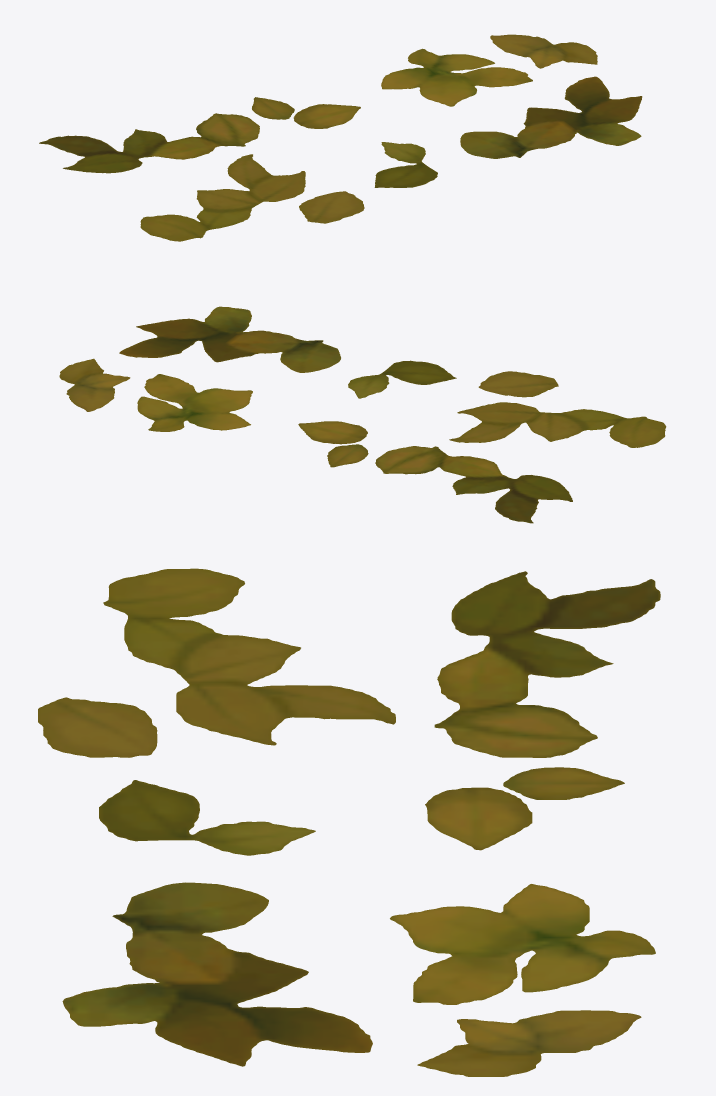
Rendered from FB4_shuye02.FBX.
3 views of the same model, one above another, from view 1: azimuth 30°, elevation 25°; view 2: azimuth 150°, elevation 25°; view 3: azimuth 270°, elevation 25° (orthographic). The views are drawn at different scales.
Parts seen in each view (by area): view 1: FB4_shuye02_001, FB4_shuye02_004, FB4_shuye02_003, FB4_shuye02_002, FB4_shuye02_005; view 2: FB4_shuye02_001, FB4_shuye02_004, FB4_shuye02_003, FB4_shuye02_002, FB4_shuye02_005; view 3: FB4_shuye02_001, FB4_shuye02_004, FB4_shuye02_003, FB4_shuye02_002, FB4_shuye02_005.
Boxes of the visible parts, bbox=[...] form: FB4_shuye02_001: bbox=[39, 97, 360, 173]; FB4_shuye02_004: bbox=[140, 154, 364, 241]; FB4_shuye02_003: bbox=[460, 76, 642, 158]; FB4_shuye02_002: bbox=[381, 34, 597, 106]; FB4_shuye02_005: bbox=[374, 142, 437, 187]; FB4_shuye02_001: bbox=[298, 421, 572, 523]; FB4_shuye02_004: bbox=[449, 371, 666, 447]; FB4_shuye02_003: bbox=[119, 306, 340, 372]; FB4_shuye02_002: bbox=[59, 358, 252, 431]; FB4_shuye02_005: bbox=[348, 360, 456, 398]; FB4_shuye02_001: bbox=[425, 571, 660, 850]; FB4_shuye02_004: bbox=[38, 568, 395, 757]; FB4_shuye02_003: bbox=[62, 882, 372, 1066]; FB4_shuye02_002: bbox=[390, 884, 655, 1076]; FB4_shuye02_005: bbox=[99, 780, 315, 855].
Size of the model in its own units: 191 by 1.41e-05 by 99.43.
Materials: 1 (1 with a texture image).
